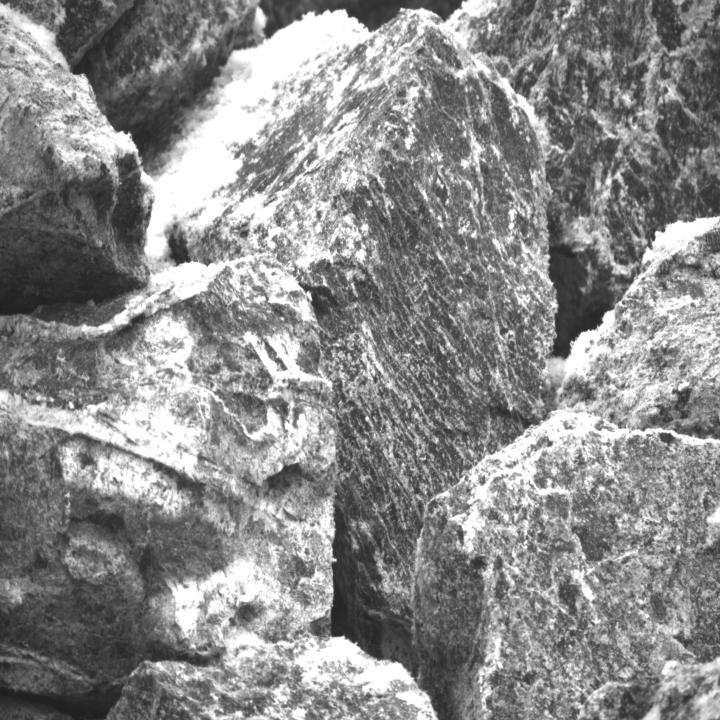stone: (171, 21, 566, 611), (0, 277, 362, 703), (411, 424, 720, 720), (462, 0, 719, 290), (0, 0, 157, 329), (562, 223, 720, 437), (23, 0, 263, 129), (117, 636, 443, 720)
